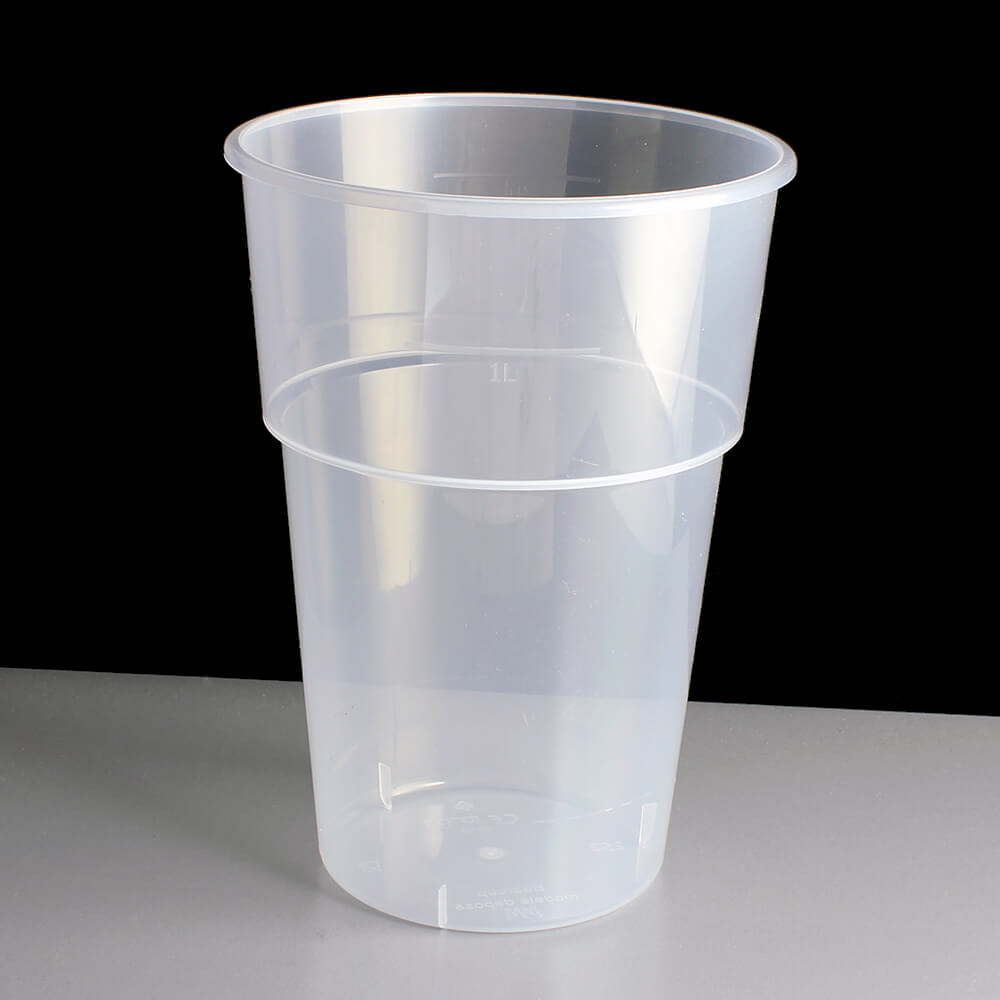plastic_bottle: (208, 84, 813, 941)
